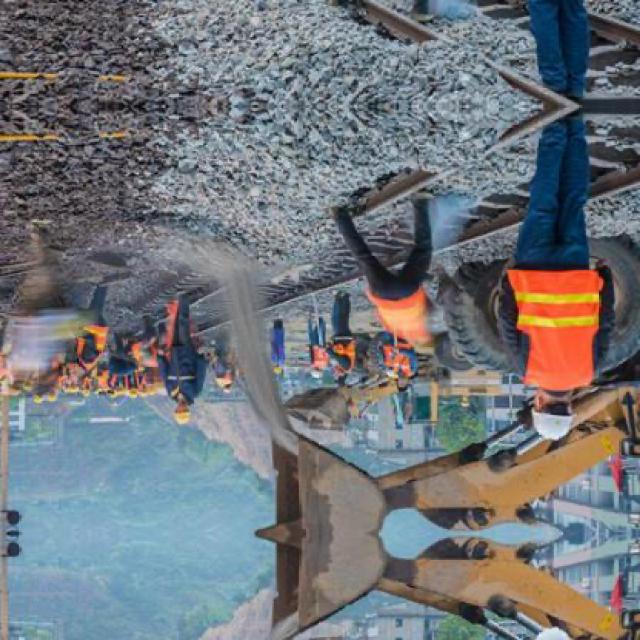con casco: (498, 360, 592, 460), (152, 385, 208, 422)
